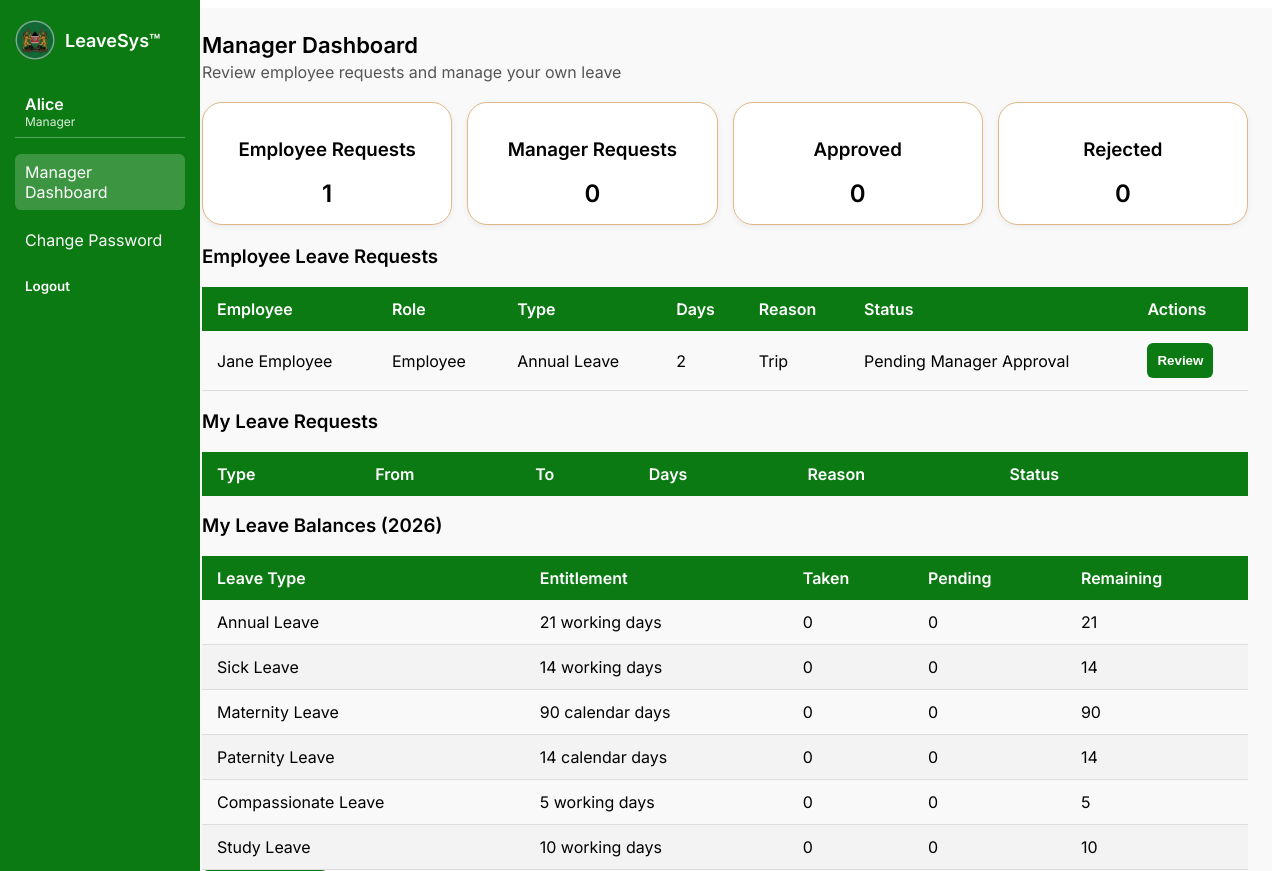
if the server refuses a decision, the review dialog shows why
Step 1. Click the button "Review" → point(1180, 361), box 1147,343 -> 1213,378
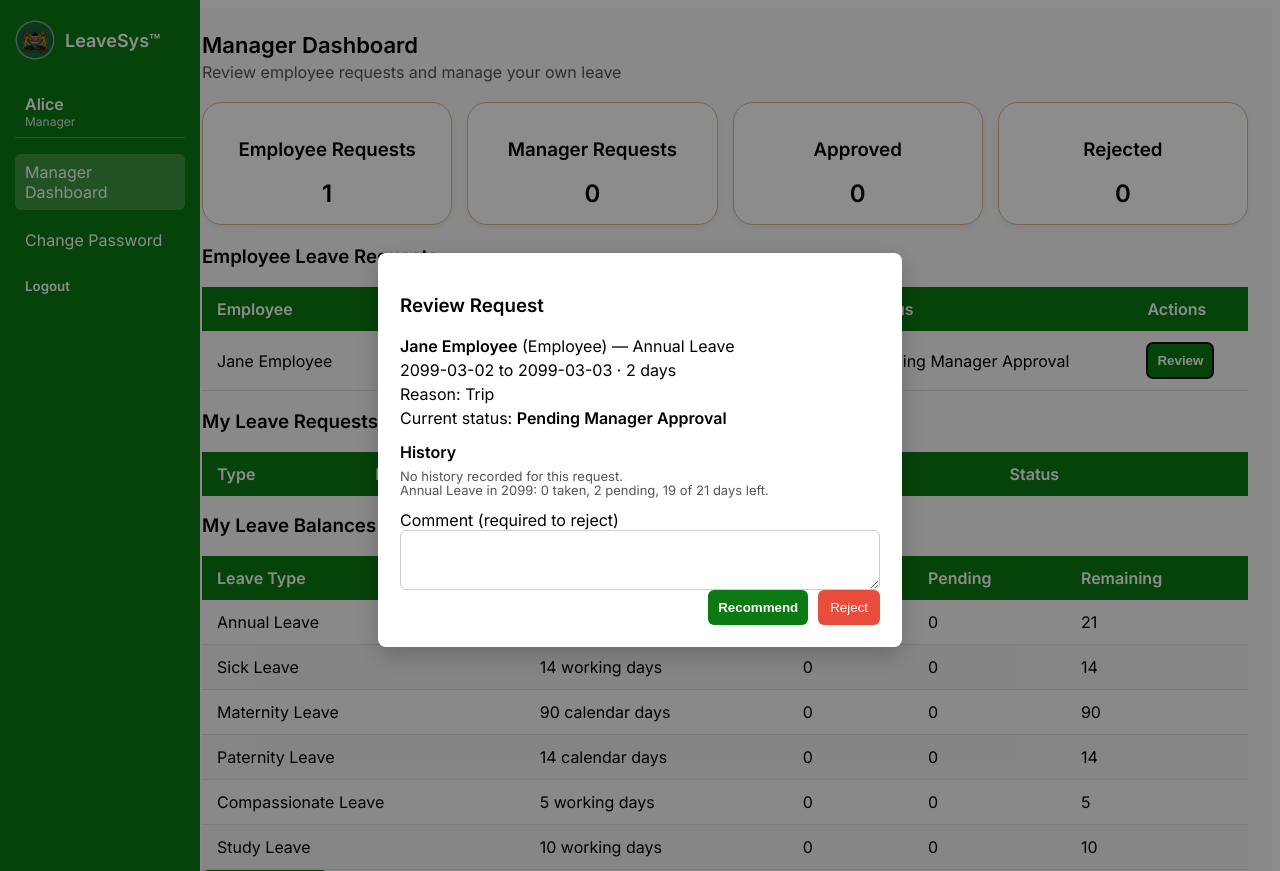
Step 2. Click the button "Recommend" → point(758, 607), box 708,590 -> 808,625
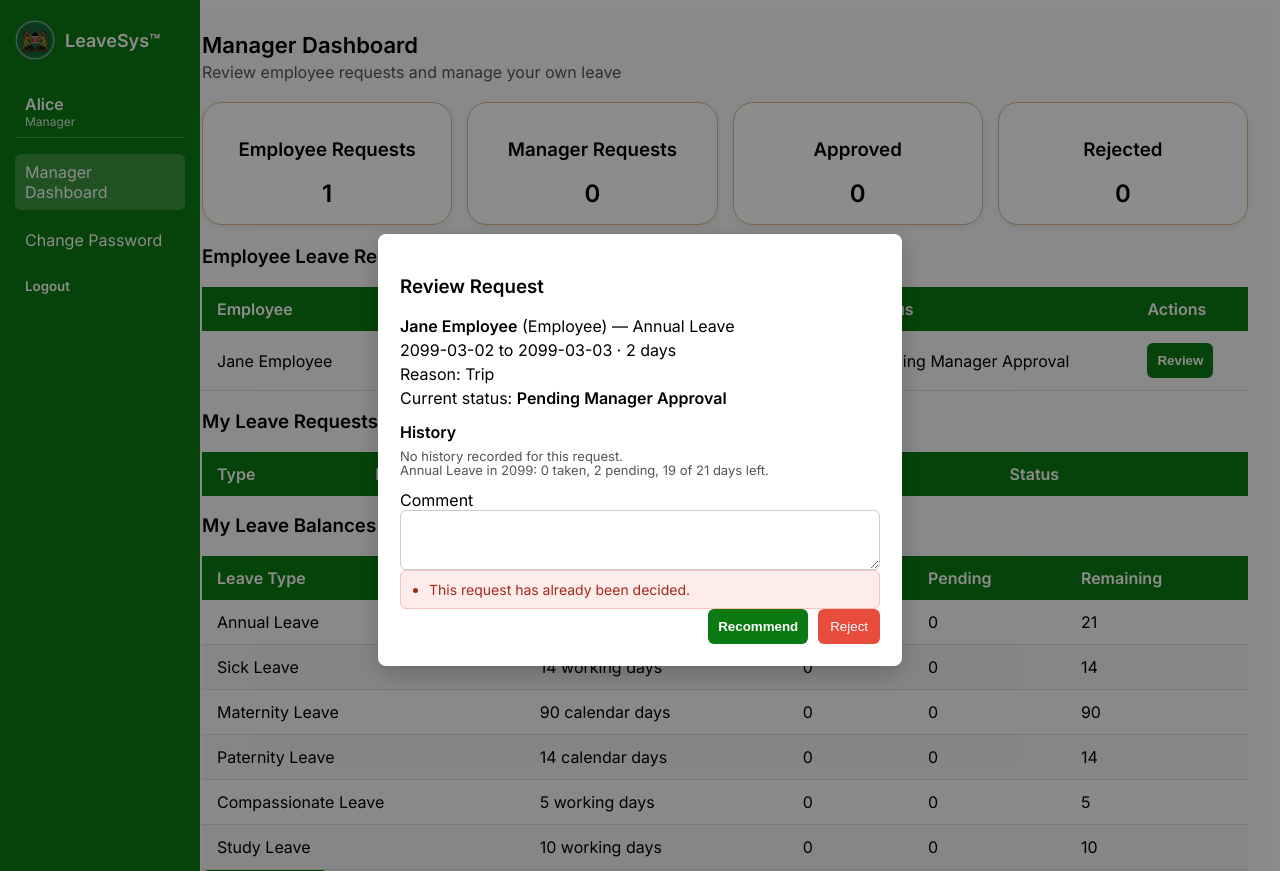
expect the message reads "This request has already been decided.": met, box 429,581 -> 690,598
